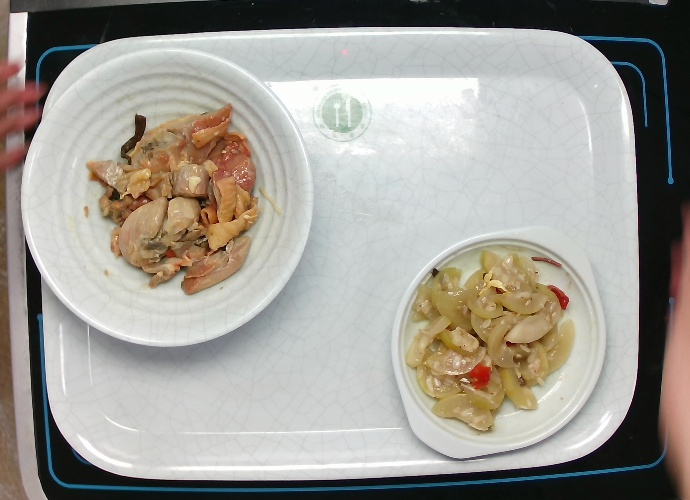JYsf-Shuang_Er_Pan: (385, 220, 614, 462)
JYsf-Xiao_Tang_Wan: (15, 44, 318, 349)
